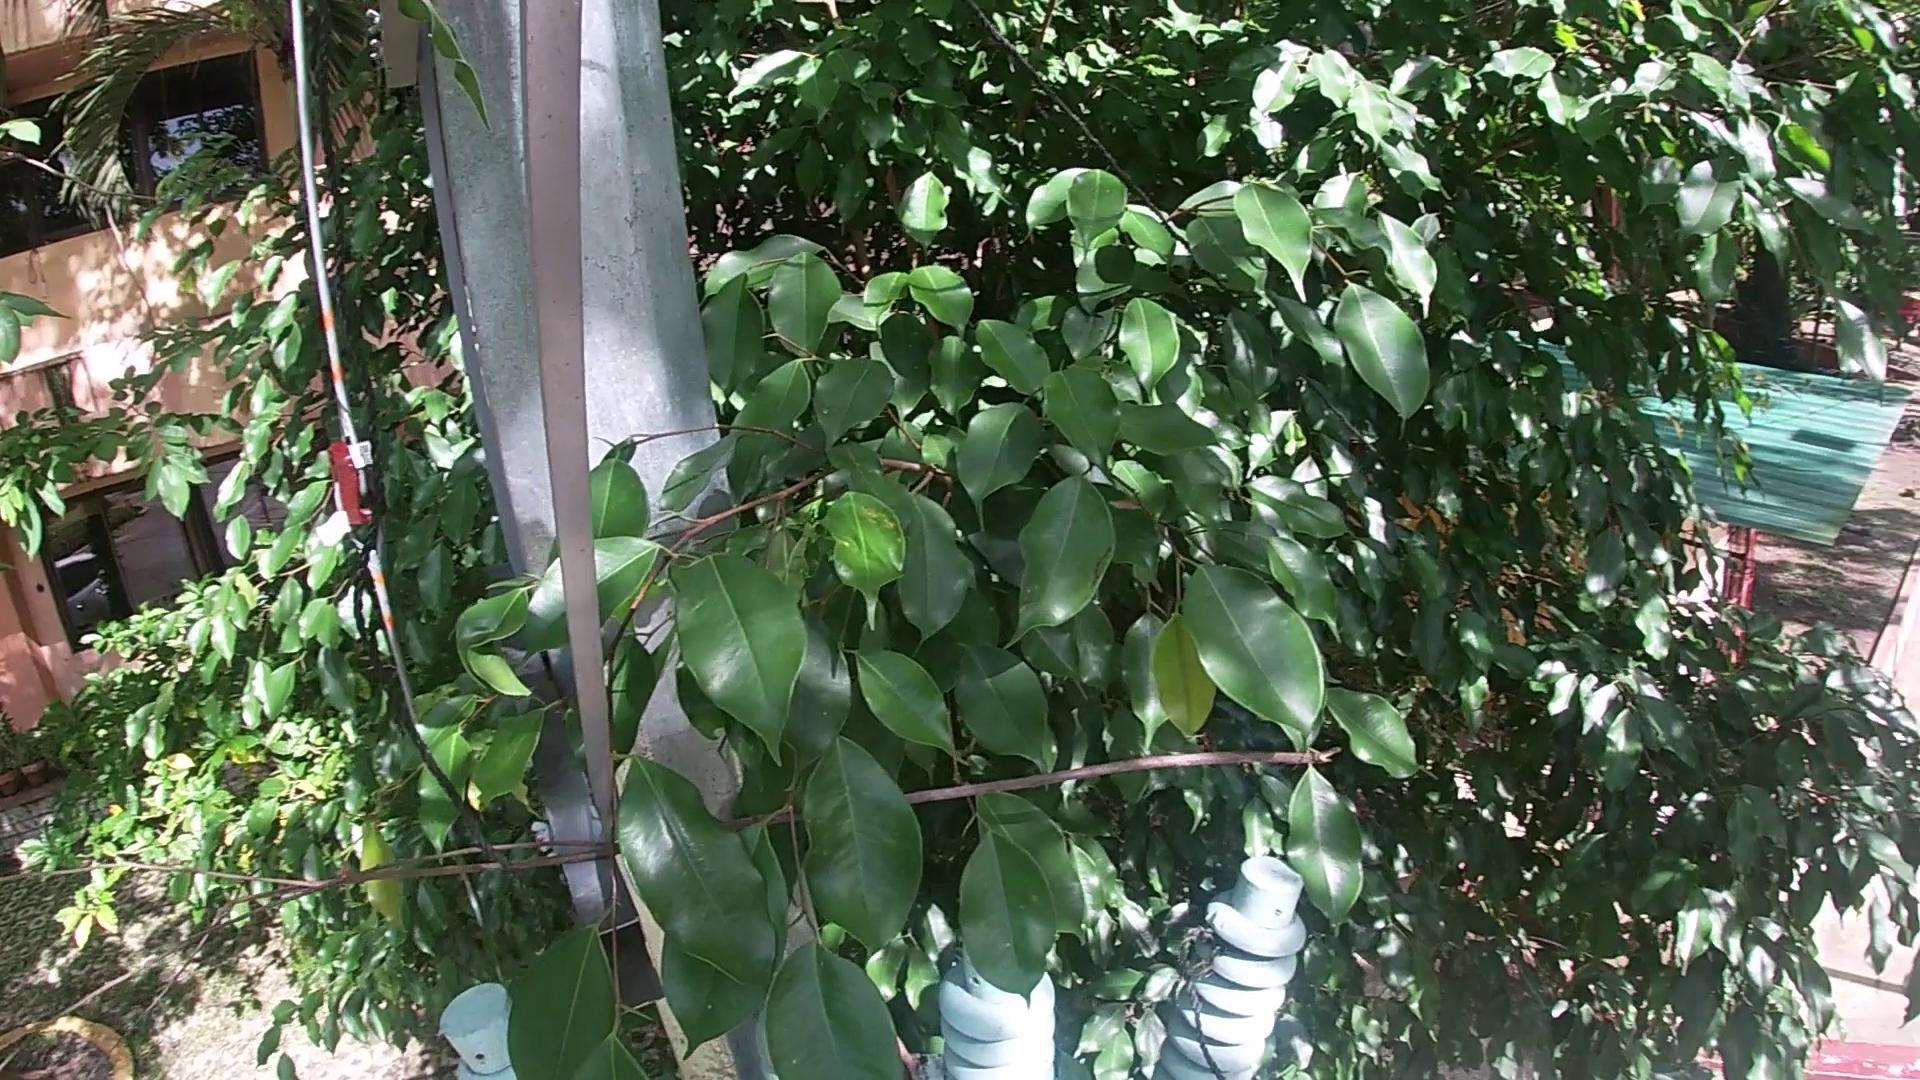tree branch: (11, 727, 1352, 1059)
